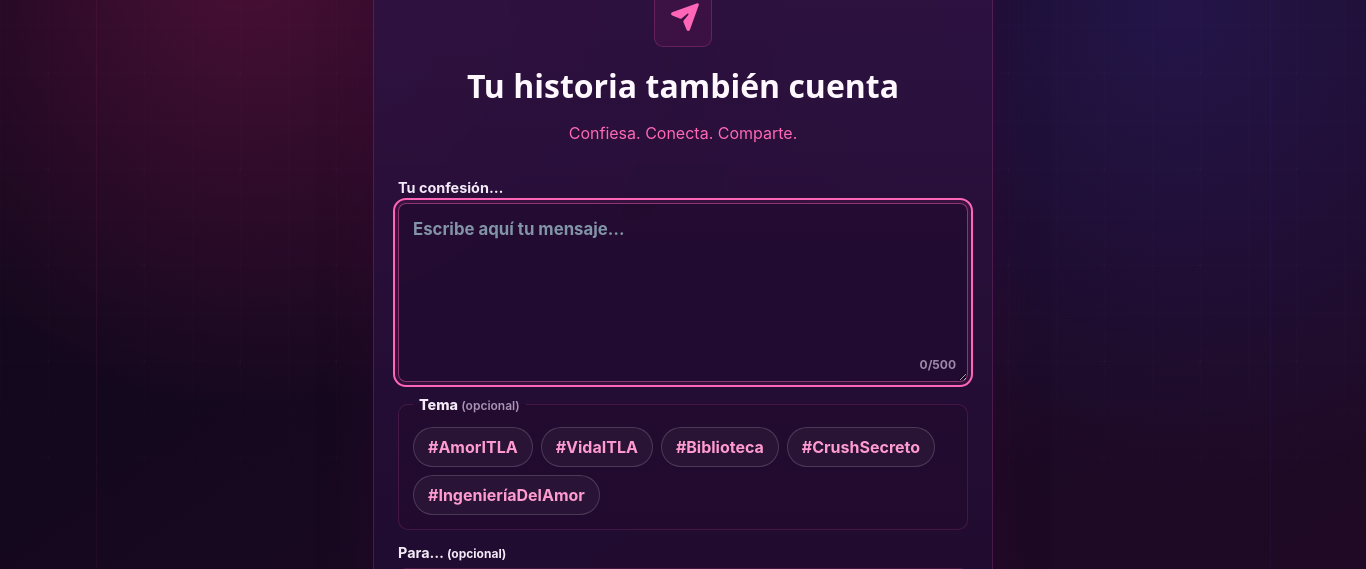
Scenario: acciones destructivas y formulario de crear › el formulario usa grupos de opciones y envía la selección elegida
The width and height of the screenshot is (1366, 569).
Type "Hola ITLA" into the text box with placeholder "Escribe aquí tu mensaje…" at (683, 293), box [398,203,968,382]
(page scrolled)
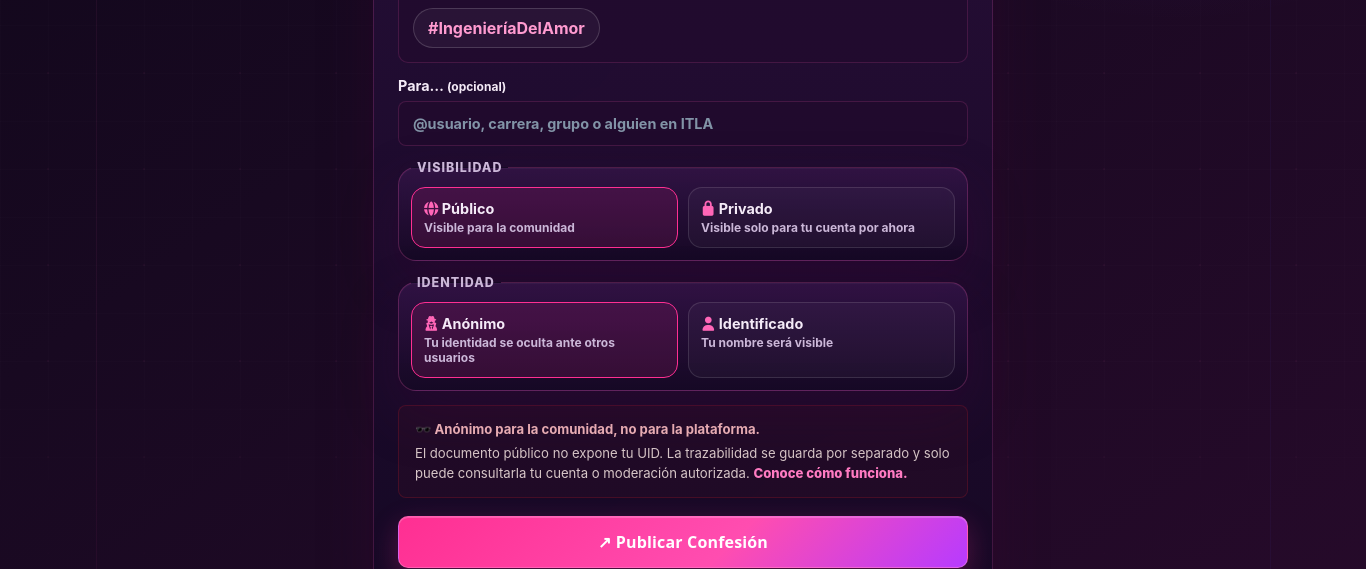
Click the radio button labelled "Privado Visible solo para tu cuenta por ahora" at (822, 218), box [688,187,955,248]
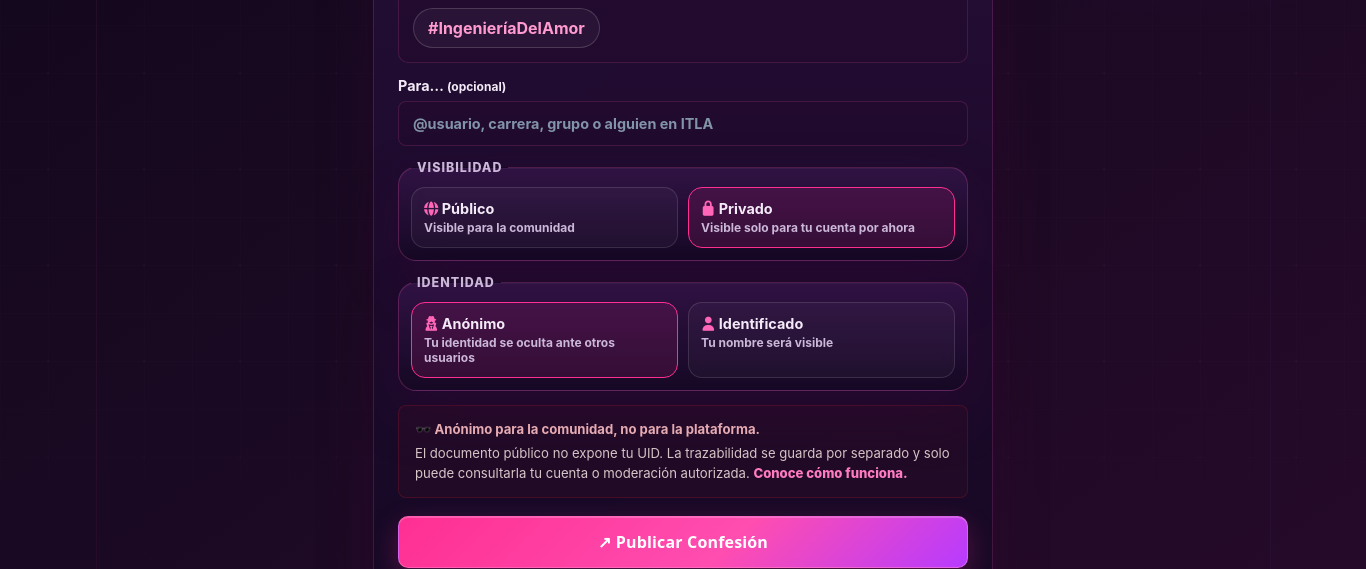
Click the radio button labelled "Identificado Tu nombre será visible" at (822, 340), box [688,302,955,378]
(page scrolled)
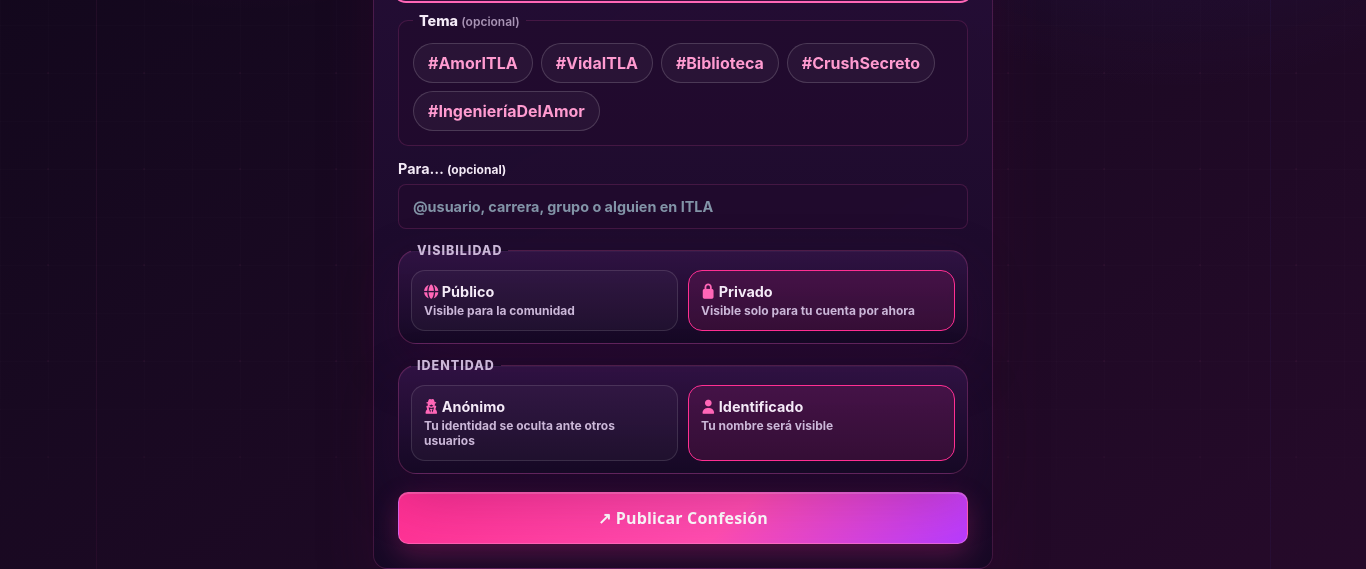
Check: the radio button labelled "Público Visible para la comunidad" is not checked, box [411,270,678,331]
Click the button "↗ Publicar Confesión" at (683, 518), box [398,492,968,544]
(page scrolled)
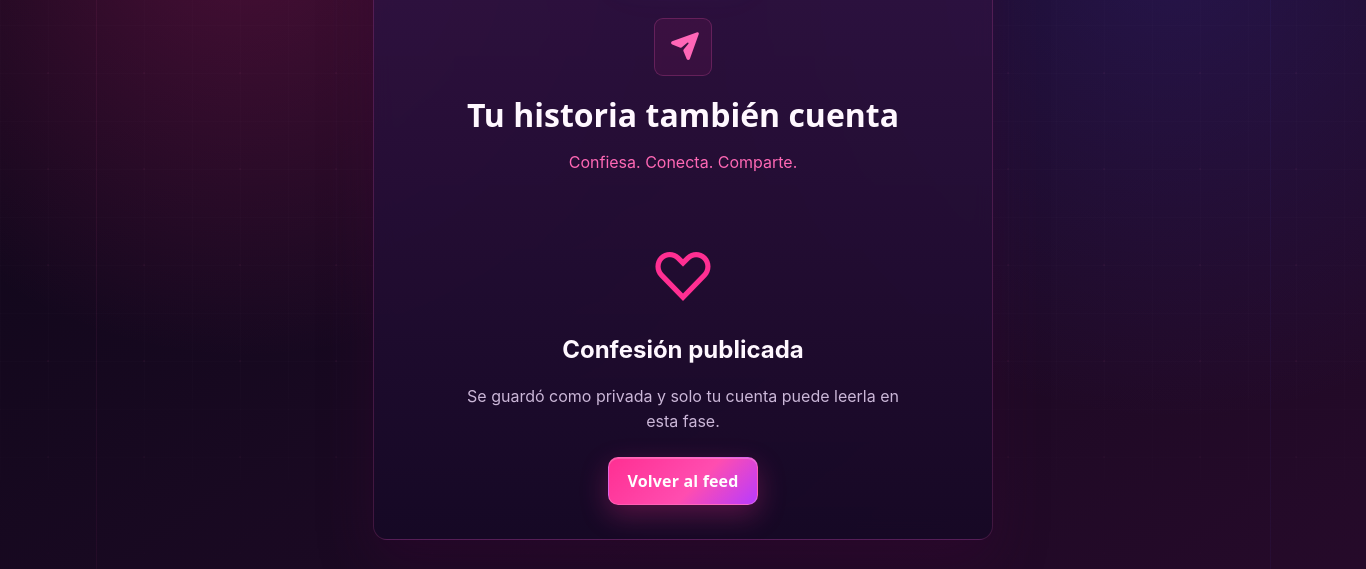
Check: the heading "Confesión publicada" is shown, box [562,335,804,364]
